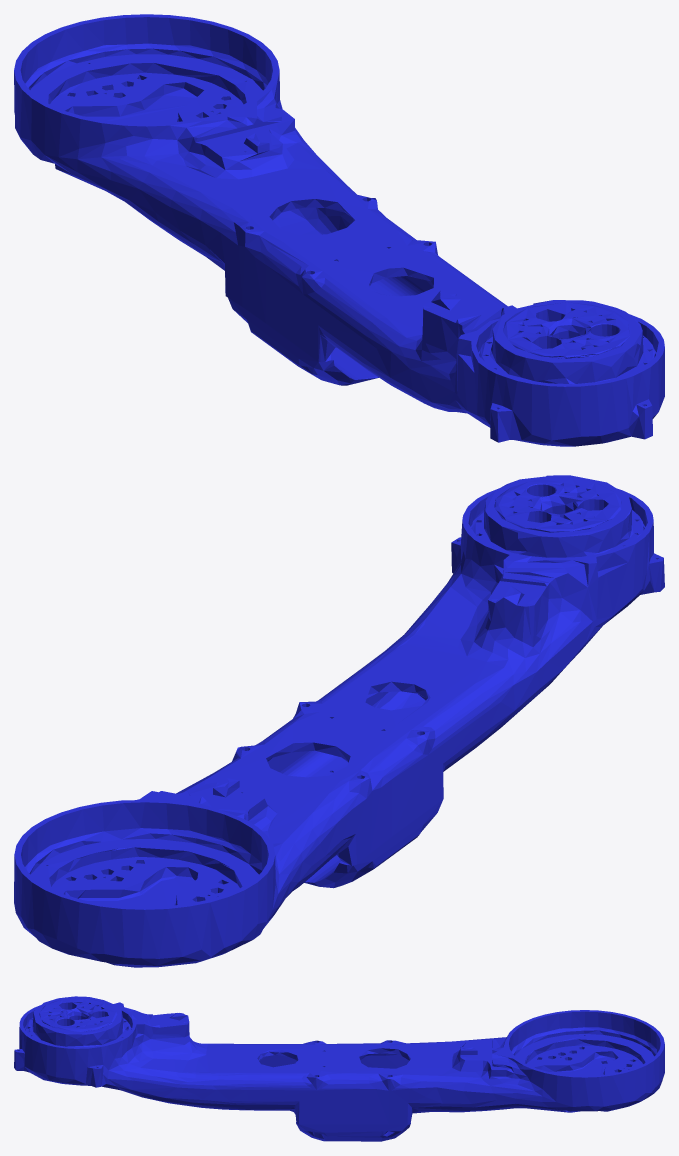
3 renders of one model, top to bottom at view 1: azimuth 30°, elevation 25°; view 2: azimuth 150°, elevation 25°; view 3: azimuth 270°, elevation 25°, orthographic. The views are drawn at different scales.
Visible parts, largest first — view 1: /Link2/Link2-mesh/0; view 2: /Link2/Link2-mesh/0; view 3: /Link2/Link2-mesh/0.
Boxes of the visible parts, x1,y1,x2,y2 form: /Link2/Link2-mesh/0: [14, 14, 664, 446]; /Link2/Link2-mesh/0: [14, 475, 664, 967]; /Link2/Link2-mesh/0: [14, 996, 664, 1141].
Size of the model in its own units: 0.2403 by 0.1921 by 0.9764.
